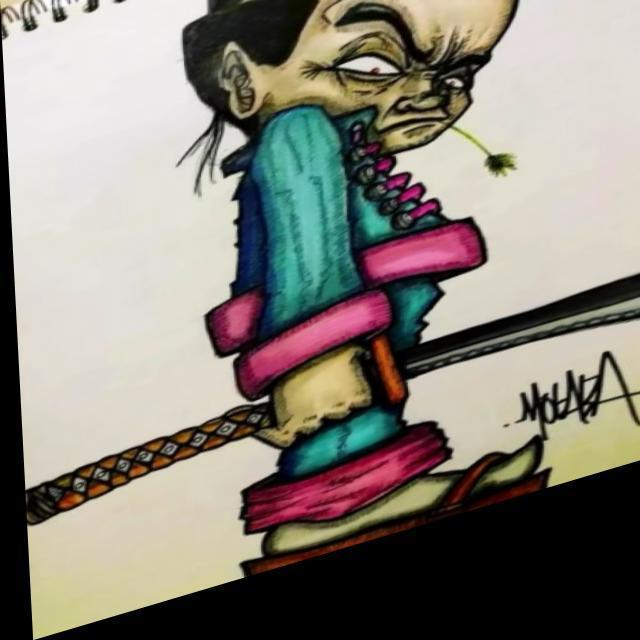nonspitting: (517, 352, 640, 435)
spitting: (180, 0, 550, 580)
